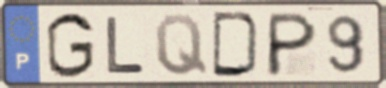9: (324, 12, 368, 76)
D: (210, 9, 262, 79)
G: (44, 10, 96, 80)
L: (104, 14, 148, 76)
P: (264, 10, 320, 78)
Q: (152, 12, 210, 78)
